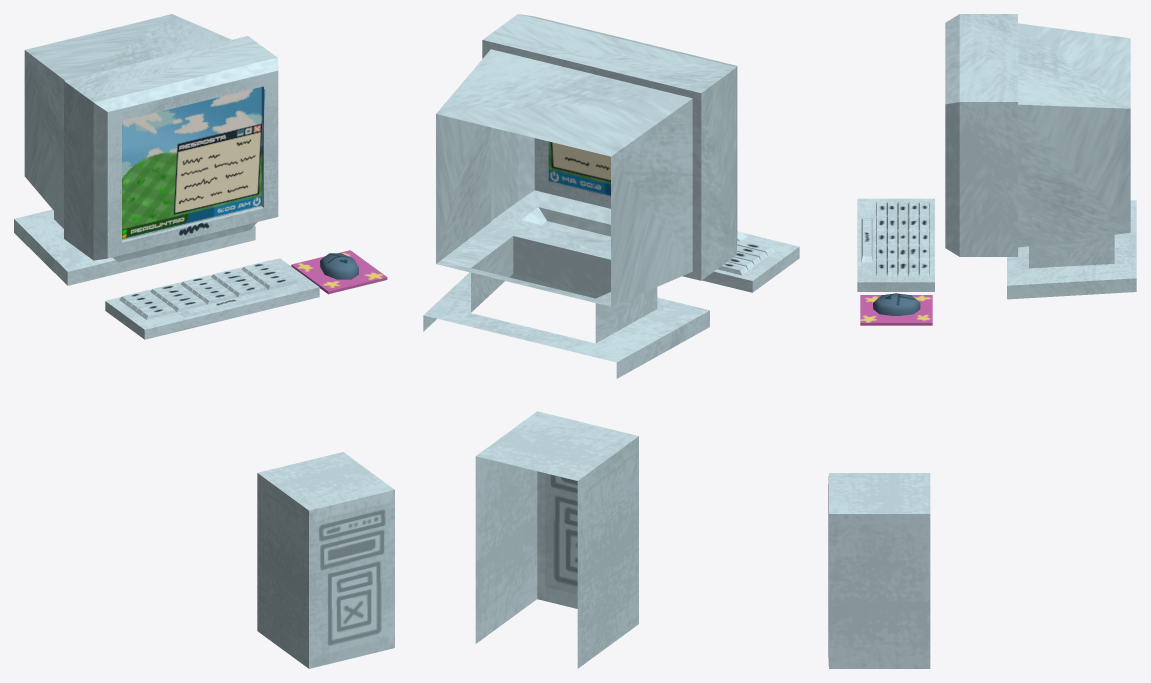
The picture shows the model from 3 angles, left to right: view 1: azimuth 30°, elevation 25°; view 2: azimuth 150°, elevation 25°; view 3: azimuth 270°, elevation 25°; orthographic projection. The views are drawn at different scales.
Parts seen in each view (by area): view 1: OldComputerRoom; view 2: OldComputerRoom; view 3: OldComputerRoom.
Part boxes in pixels (<box>): OldComputerRoom: <box>14,14,394,668</box>; OldComputerRoom: <box>423,14,799,668</box>; OldComputerRoom: <box>828,14,1136,668</box>.
Bounding box in the file's own units: 119 × 258 × 133.
